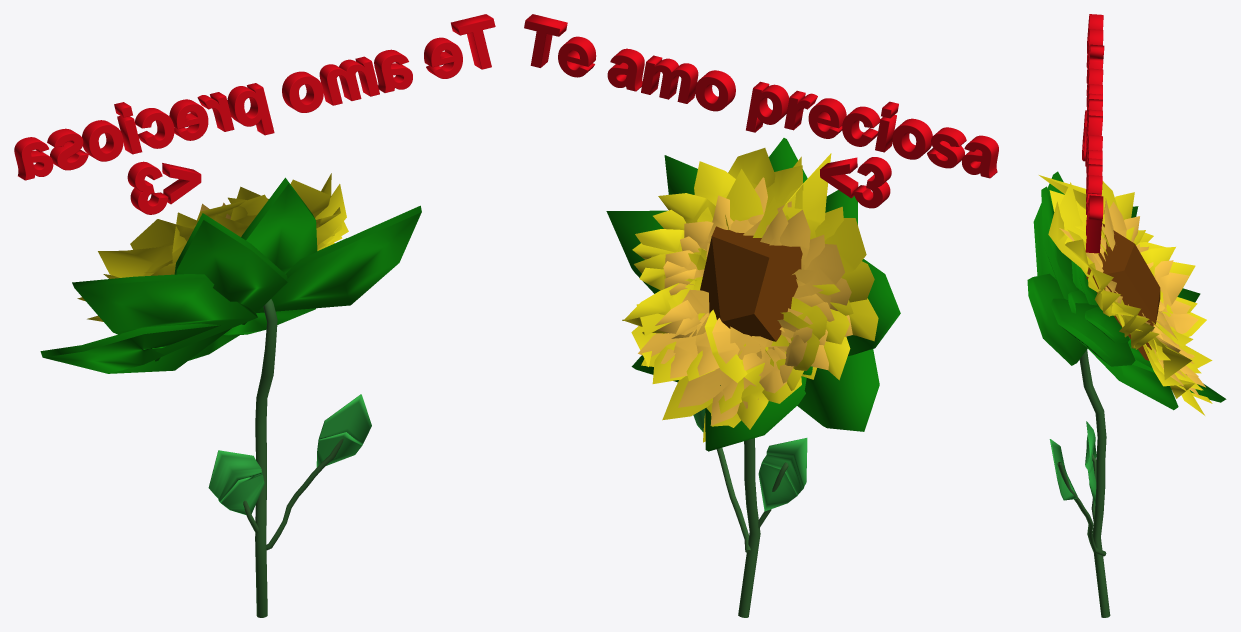
3 views of the same model, side by side, from view 1: azimuth 30°, elevation 25°; view 2: azimuth 150°, elevation 25°; view 3: azimuth 270°, elevation 25° (orthographic). The views are drawn at different scales.
Parts seen in each view (by area): view 1: hojas, Text, petalos, tallo, Plane.002, Plane.001, Cylinder.001; view 2: petalos, Text, hojas, Plane.002, tallo, Cylinder.001; view 3: petalos, hojas, Text, tallo, Plane.002, Plane.001, Cylinder.001.
Part boxes in pixels (<box>): hojas: <box>40,177,421,373</box>; Text: <box>14,14,495,214</box>; petalos: <box>77,173,348,321</box>; tallo: <box>255,299,277,617</box>; Plane.002: <box>208,450,264,514</box>; Plane.001: <box>316,394,371,467</box>; Cylinder.001: <box>266,438,343,550</box>; petalos: <box>622,148,878,442</box>; Text: <box>524,14,998,208</box>; hojas: <box>606,138,900,451</box>; Plane.002: <box>758,438,807,511</box>; tallo: <box>738,438,760,617</box>; Cylinder.001: <box>716,447,750,552</box>; petalos: <box>1039,175,1212,415</box>; hojas: <box>1027,171,1226,410</box>; Text: <box>1082,14,1104,253</box>; tallo: <box>1079,349,1110,617</box>; Plane.002: <box>1085,421,1096,505</box>; Plane.001: <box>1049,439,1077,500</box>; Cylinder.001: <box>1057,462,1106,556</box>.
Bounding box in the file's own units: 17.22 × 19.09 × 6.82.
